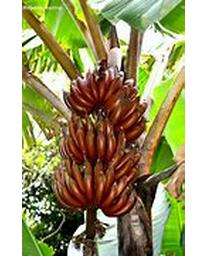banana: (60, 70, 148, 221)
